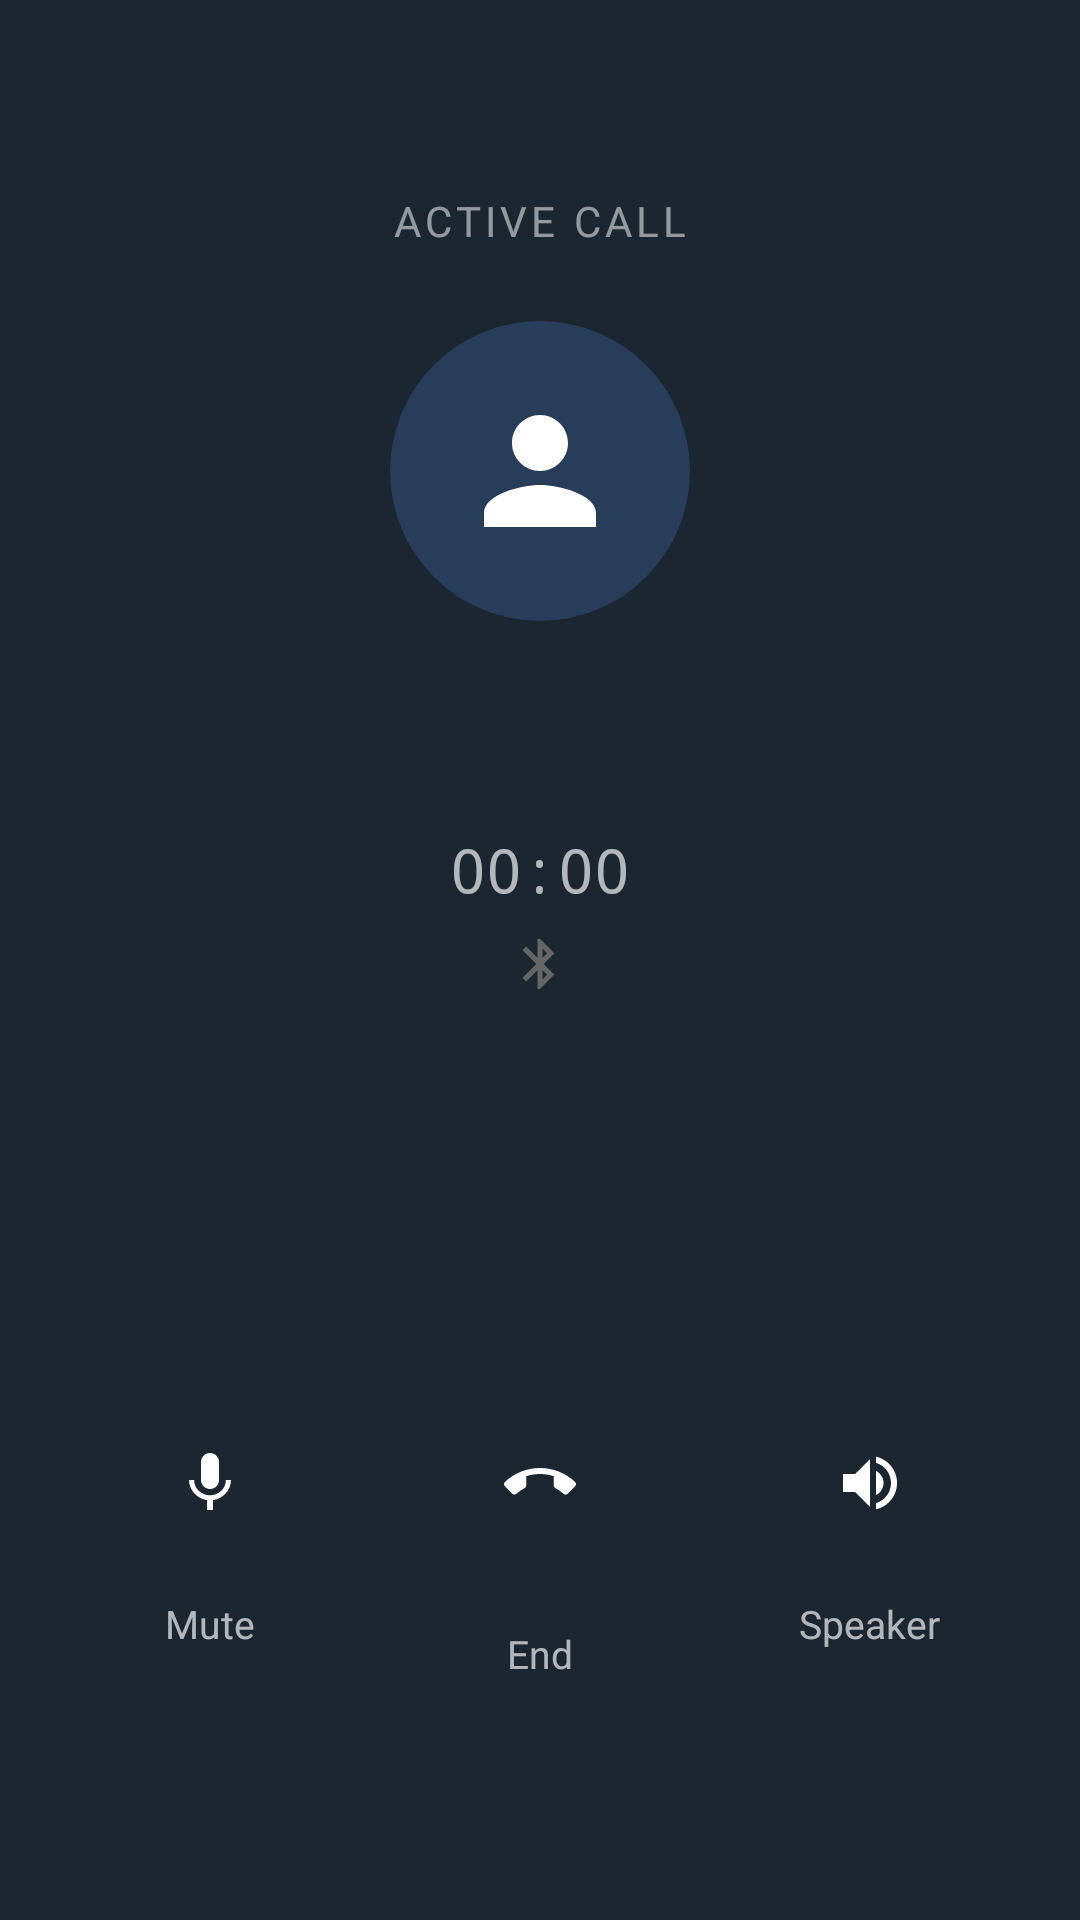

Screen size 1080x1920. Icon name, then its center in pixels as (x,y):
End call: (540,1481)
person: (540,471)
